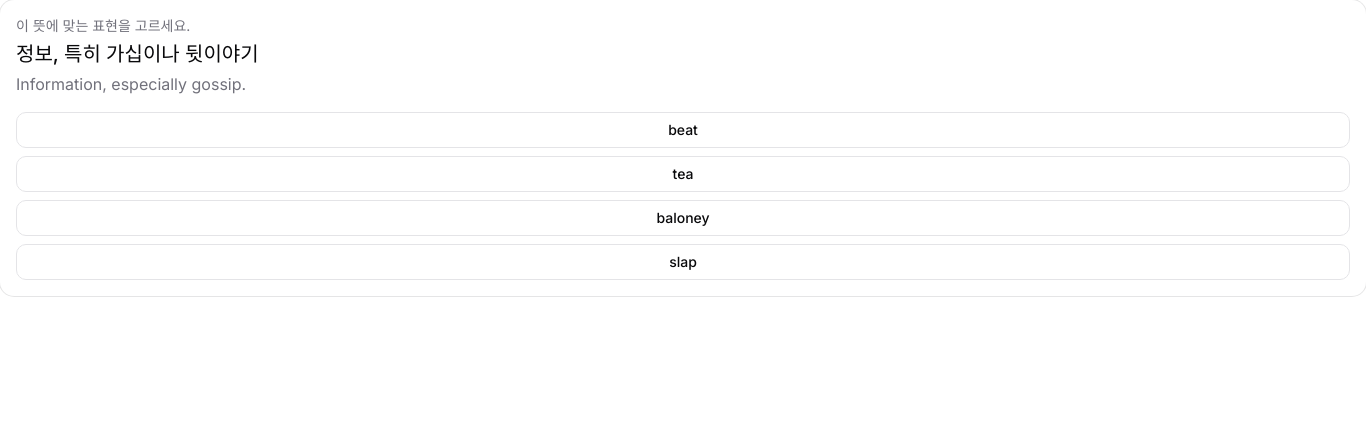
Test case: 정답을 고르면 정답 표시가 나오고 다음 문제로 넘어갈 수 있다
Click the button "tea".
click(683, 174)  # box [16,156,1350,192]
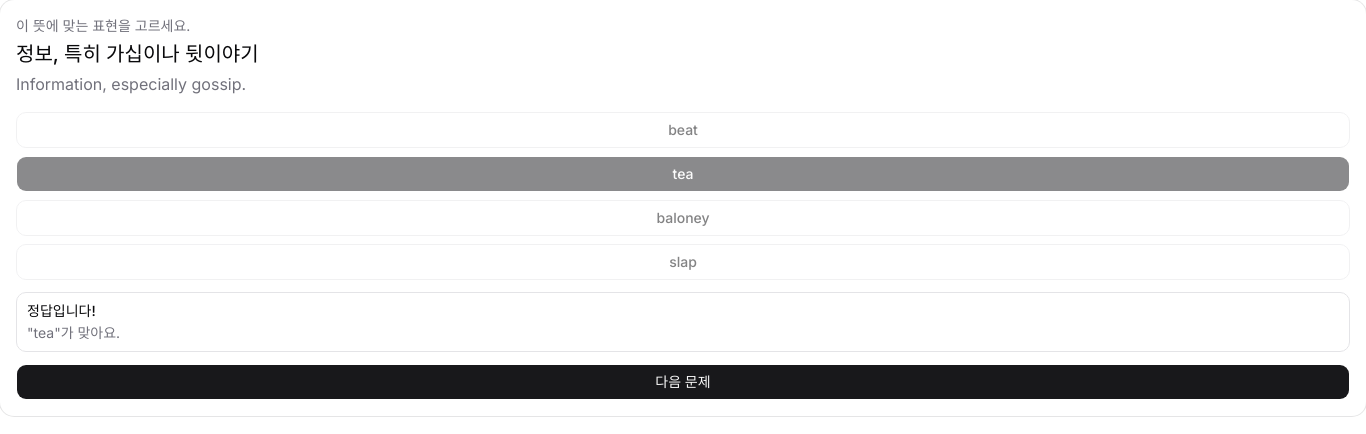
Expected: the text "정답입니다!" is shown, [27,302,96,319]
Expected: the button "다음 문제" is enabled
Click the button "다음 문제".
click(683, 382)  # box [16,364,1350,400]
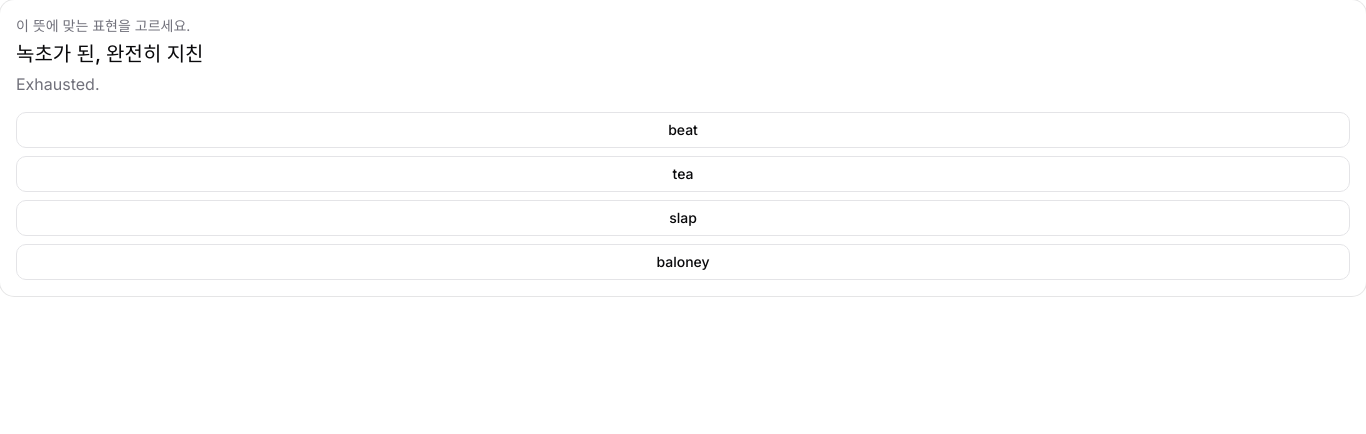
Expected: the text "녹초가 된, 완전히 지친" is shown, [16,42,204,66]
Expected: the text "정답입니다!" is gone
